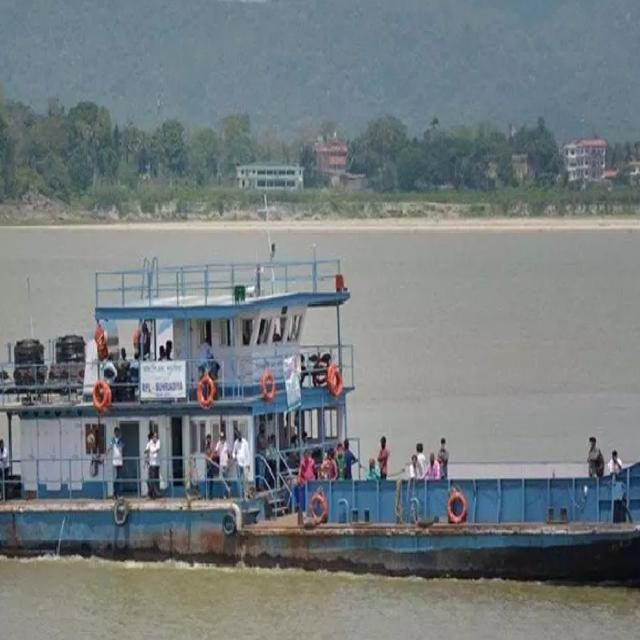fishing boat: (0, 228, 640, 596)
